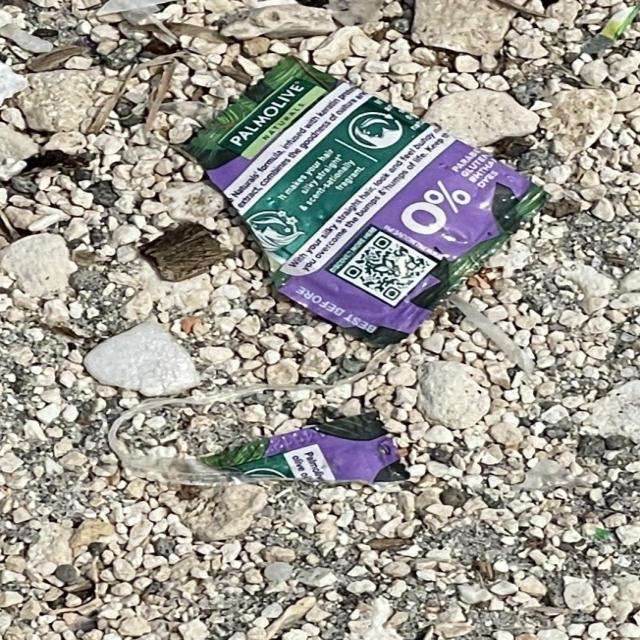plastic_waste: (169, 52, 554, 351), (196, 410, 413, 488)
